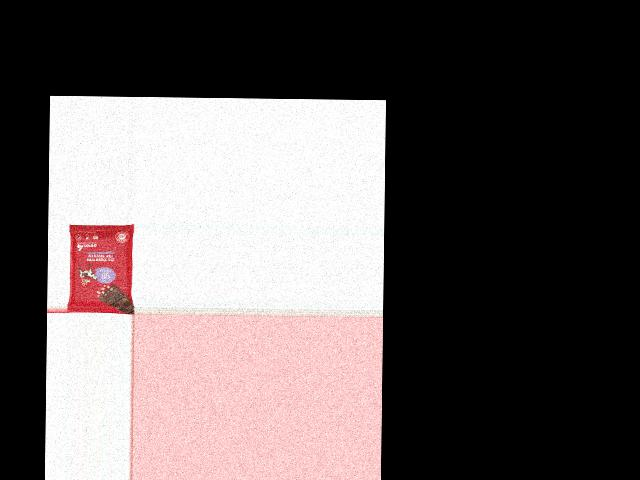chocolate: (67, 223, 132, 313)
